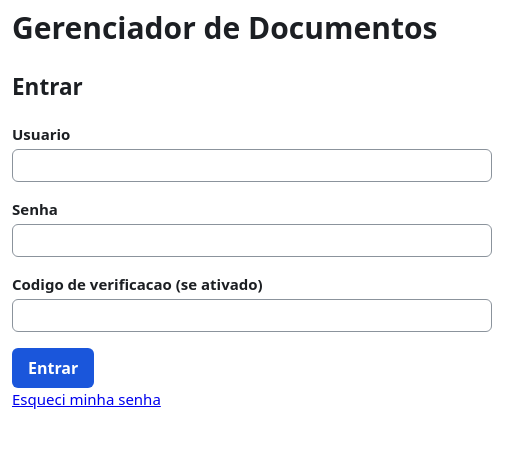
Test case: credencial invalida › nao deixa sessao pela metade quando /auth/me falha apos o login
Type "paulo" into the field labelled "Usuario" at (252,165), box left=12, top=149, right=492, bottom=182
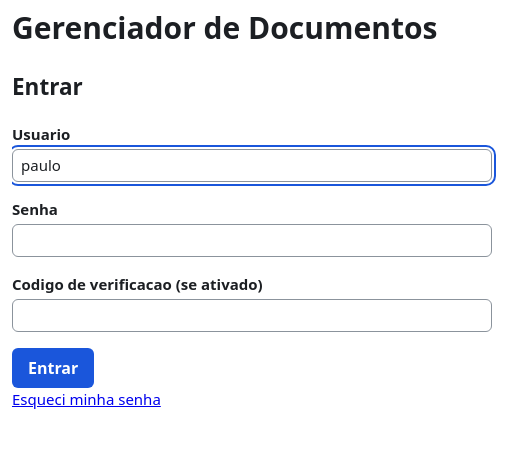
Type "senha" into the password field labelled "Senha" at (252,240), box left=12, top=224, right=492, bottom=257
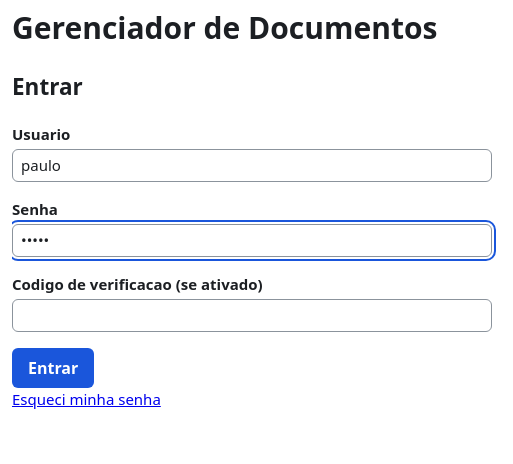
Click the button "Entrar" at (53,368), box left=12, top=348, right=94, bottom=388
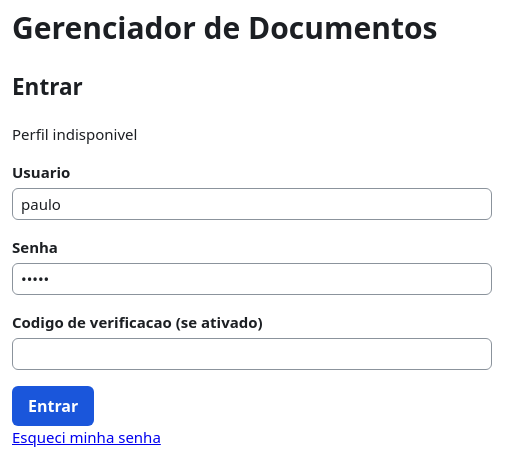
Expected: the message "Perfil indisponivel" is shown, left=12, top=124, right=137, bottom=144
